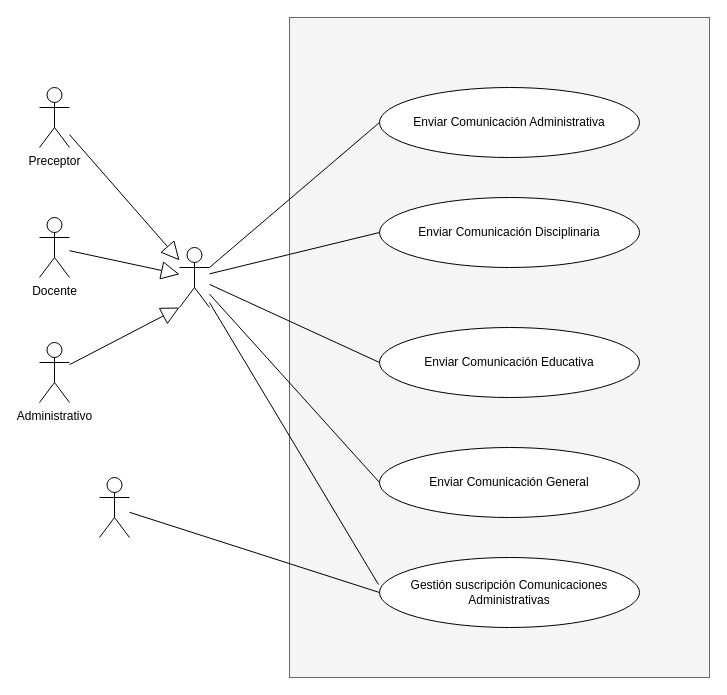
Image size: 727x695. Some labels were removed from this diagram. The centre of each missing label's shape, as x and y in pixels:
"Comunicador" belongs at pixel 194 277.
"Responsable" belongs at pixel 114 507.
